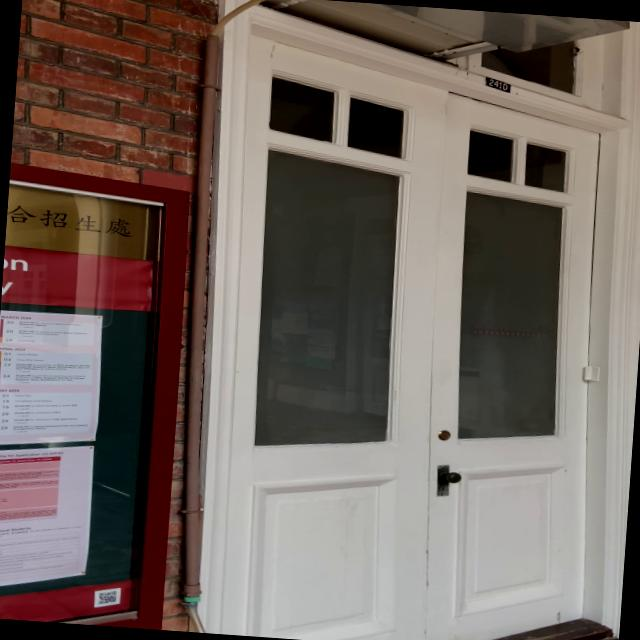room241d: (479, 73, 515, 97)
